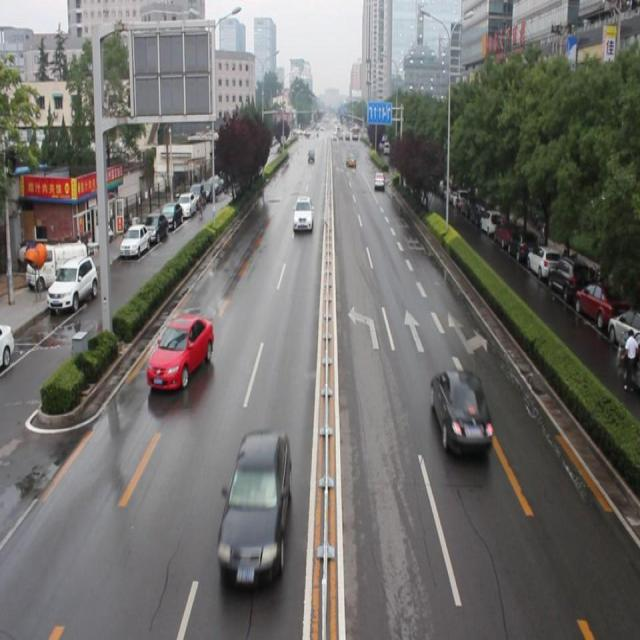car: (215, 426, 291, 586), (430, 367, 495, 458), (148, 314, 214, 395), (292, 195, 313, 232), (374, 170, 384, 188)
